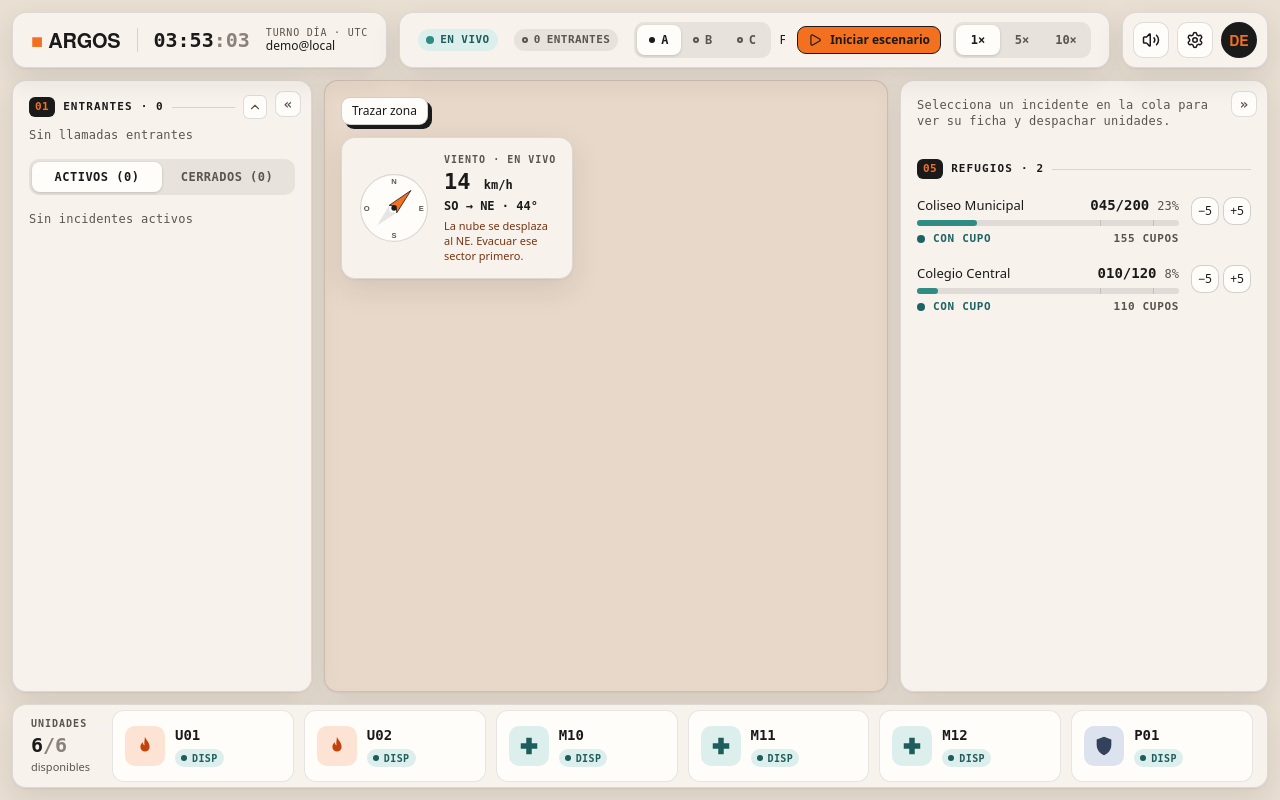
Scenario: App: escenarios del demo › cambiar de escenario antes de iniciar monta sus datos: el B trae sus refugios presionados
The image size is (1280, 800).
Check: the header named "Barra de estado" is shown, box [12, 12, 1268, 68]
Check: the element named "6 de 6 unidades disponibles" is shown, box [31, 716, 96, 776]
Click the radio button labelled "B" at (703, 40), box [681, 25, 725, 55]
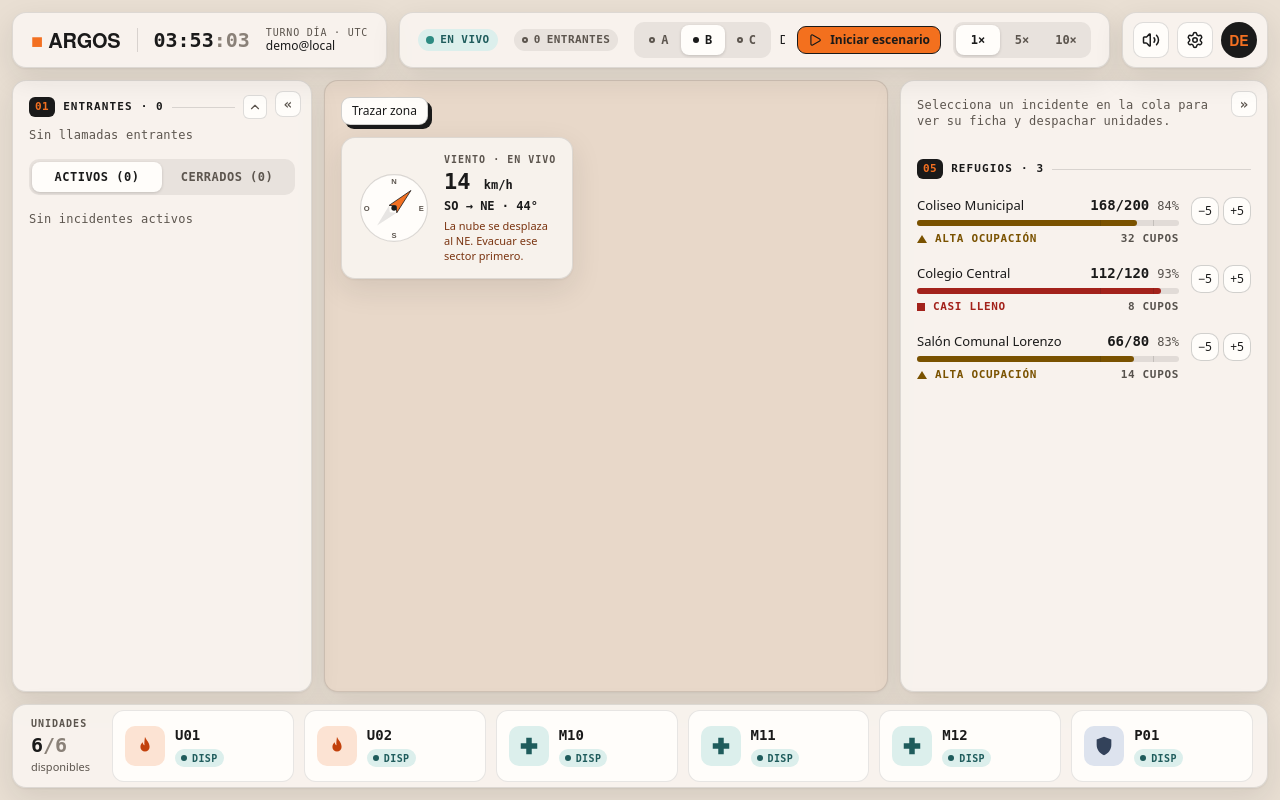
Check: the text "Salón Comunal Lorenzo" is shown, box [917, 332, 1062, 350]
Click the radio button labelled "C" at (747, 40), box [725, 25, 768, 55]
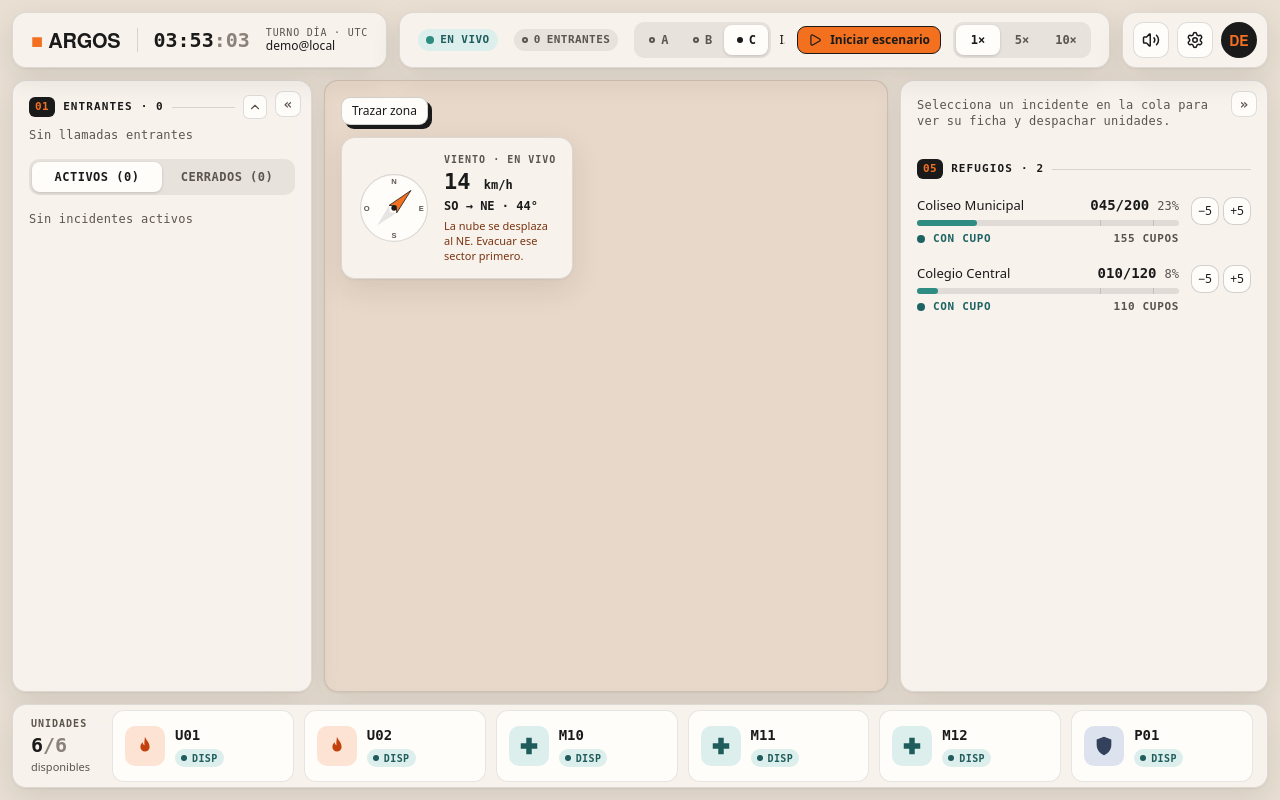
Check: the element named "6 de 6 unidades disponibles" is shown, box [31, 716, 96, 776]
Check: the text "Salón Comunal Lorenzo" is gone
